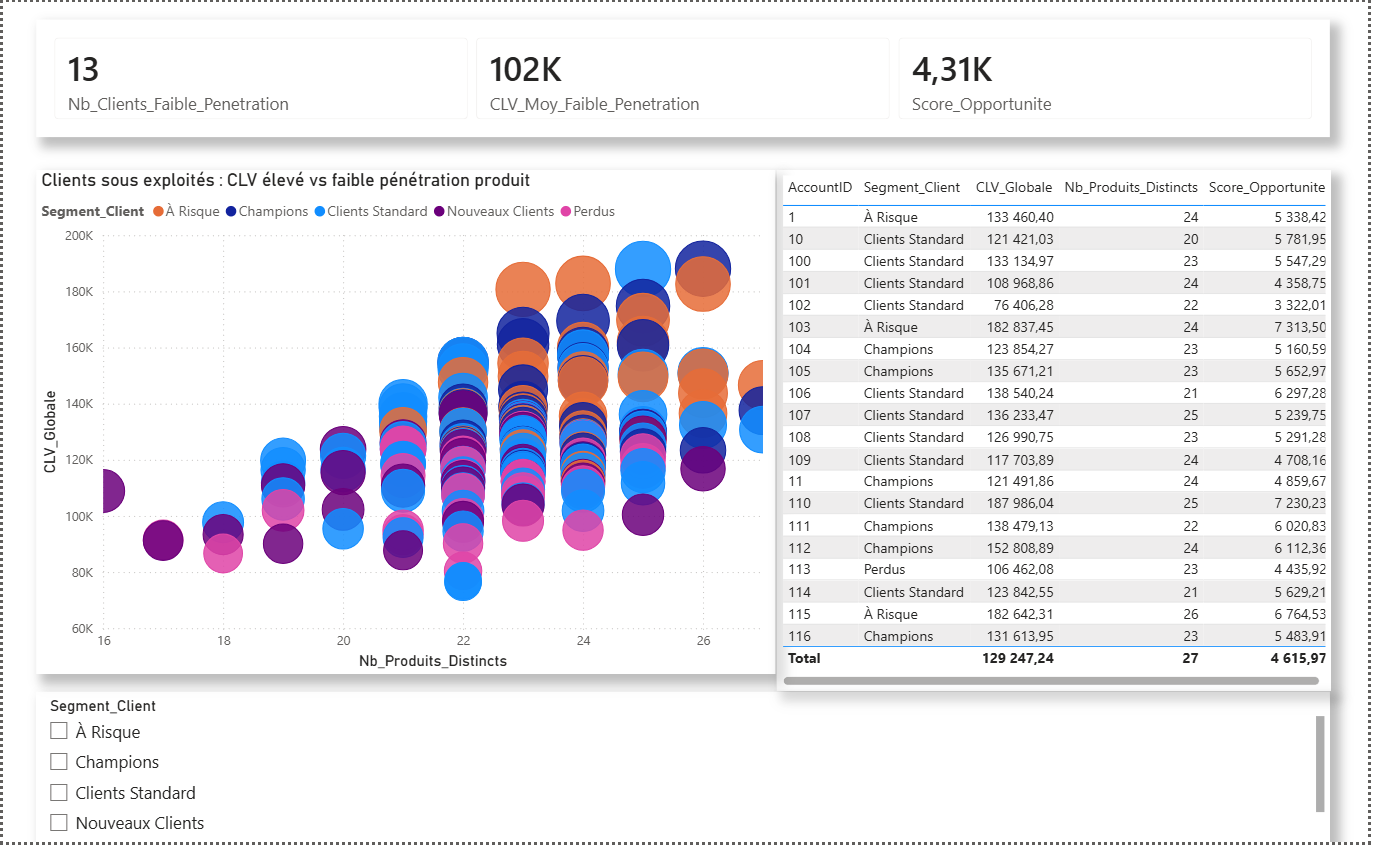

The page's visual inventory and layout, read from the dashboard file:
{"tool":"powerbi","page":{"name":"Opportunities","canvas":[1300,800],"ordinal":5},"visuals":[{"type":"scatterChart","title":"Clients sous exploités : CLV élevé vs faible pénétration produit","fields":{"Category":["Table_RFM.AccountID"],"Series":["Table_RFM.Segment_Client"],"Size":["Sum(FactTransaction.TransactionAmount)"],"X":["FactTransaction.Nb_Produits_Distincts"],"Y":["FactTransaction.CLV_Globale"]},"box":[32,160,704,480],"z":0},{"type":"tableEx","fields":{"Values":["Table_RFM.AccountID","Table_RFM.Segment_Client","FactTransaction.CLV_Globale","FactTransaction.Nb_Produits_Distincts","FactTransaction.Score_Opportunite"]},"box":[736,160,528,496],"z":1},{"type":"cardVisual","fields":{"Data":["FactTransaction.Nb_Clients_Faible_Penetration","FactTransaction.CLV_Moy_Faible_Penetration","FactTransaction.Score_Opportunite"]},"box":[32,16,1232,112],"z":2},{"type":"slicer","fields":{"Values":["Table_RFM.Segment_Client"]},"box":[32,656,1232,144],"z":3}]}

Visuals, with their boxes in screenshot pixels (x1, y1, x2, y2), scaled from the page's 1300x800 canvas onto the 1380x850 screenshot:
"Clients sous exploités : CLV élevé vs faible pénétration produit" scatterChart: <region>34, 170, 781, 680</region>
tableEx - Table_RFM.AccountID x Table_RFM.Segment_Client: <region>781, 170, 1342, 697</region>
cardVisual - FactTransaction.Nb_Clients_Faible_Penetration x FactTransaction.CLV_Moy_Faible_Penetration: <region>34, 17, 1342, 136</region>
slicer - Table_RFM.Segment_Client: <region>34, 697, 1342, 849</region>
